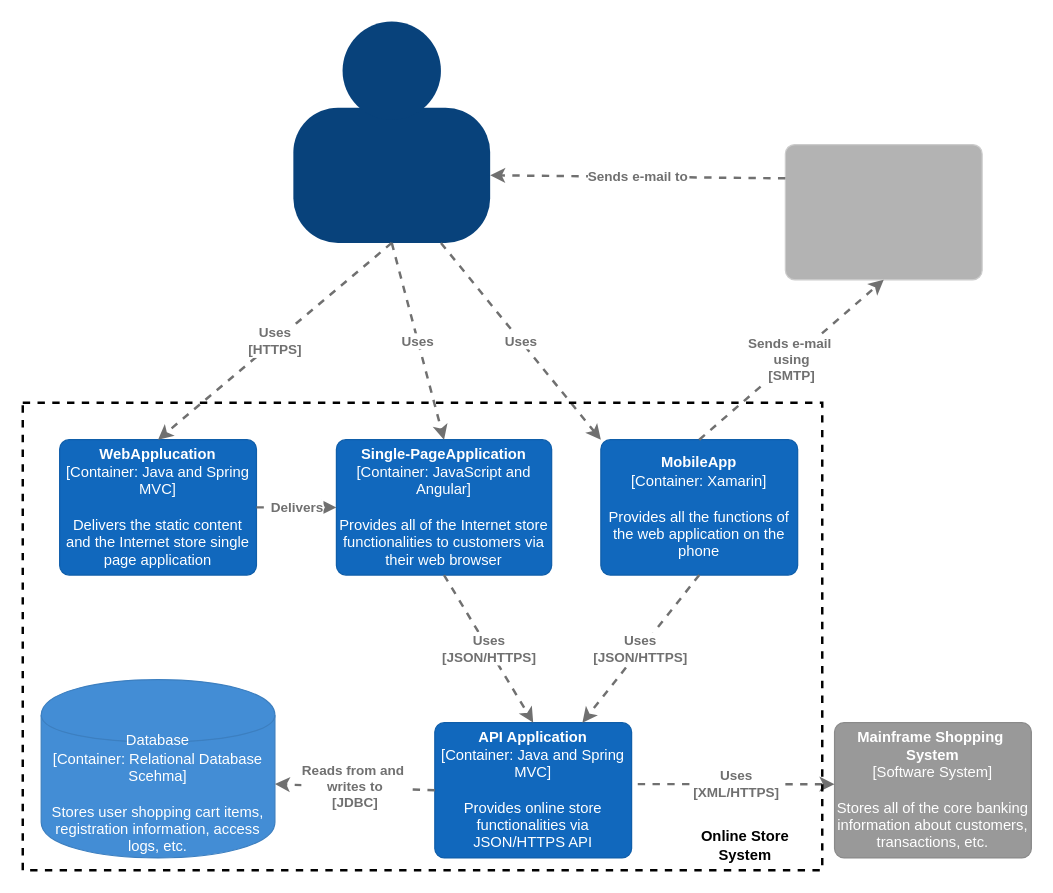
Image size: 1053x893. Some labels were removed from this diagram. The centre of each missing label's shape, as x and y in pixels:
Client [Person] A customer of the store, with a personal cart: [391,174]
E-mail System [Software System] The internal Microsoft Exchange e-mail system: [883,211]
